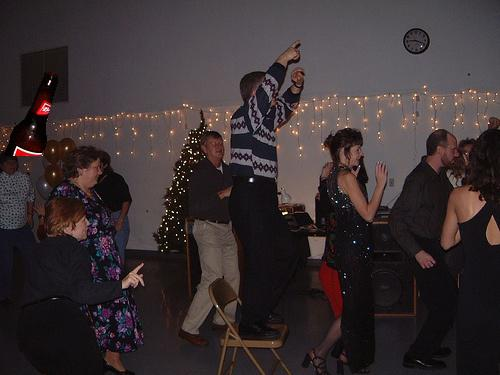tampered: (5, 73, 58, 156)
